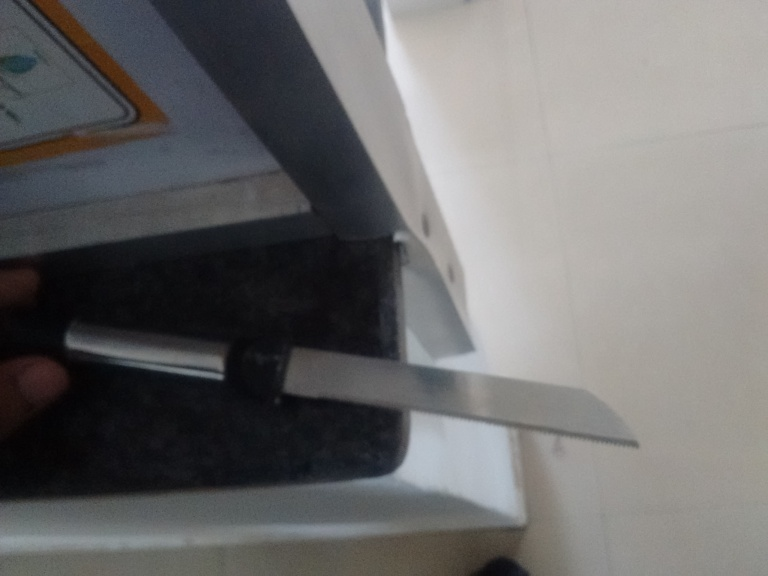knife: (53, 315, 644, 451)
